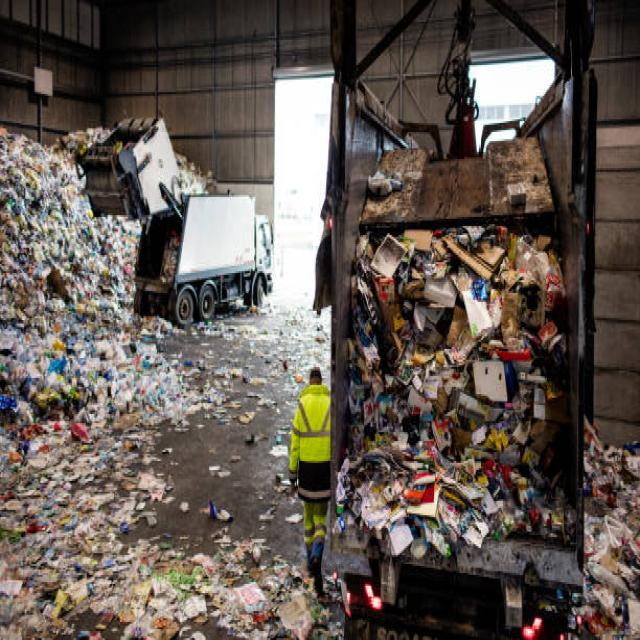trash: (340, 217, 556, 522), (21, 152, 161, 593)
